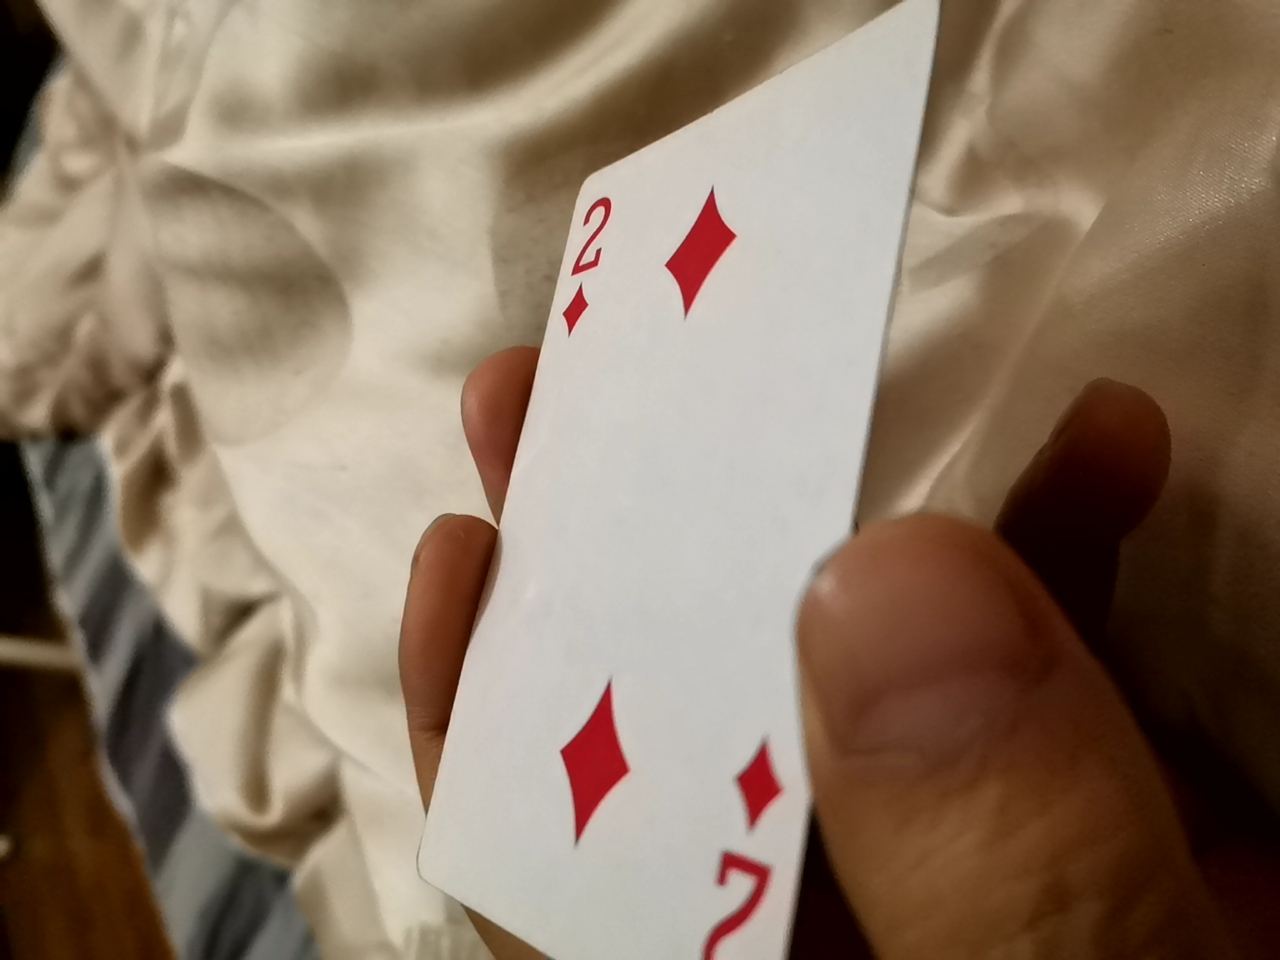fk 2: (415, 52, 907, 942)
